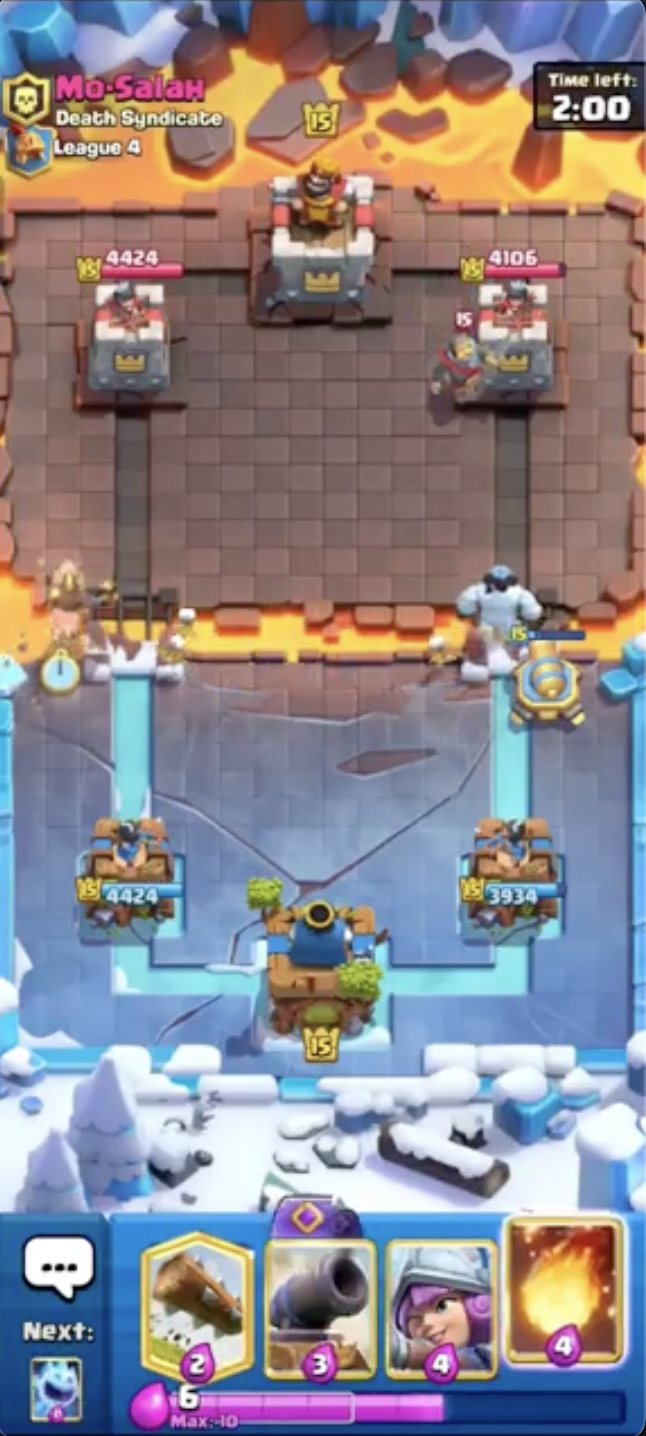knight: (431, 308, 490, 404)
